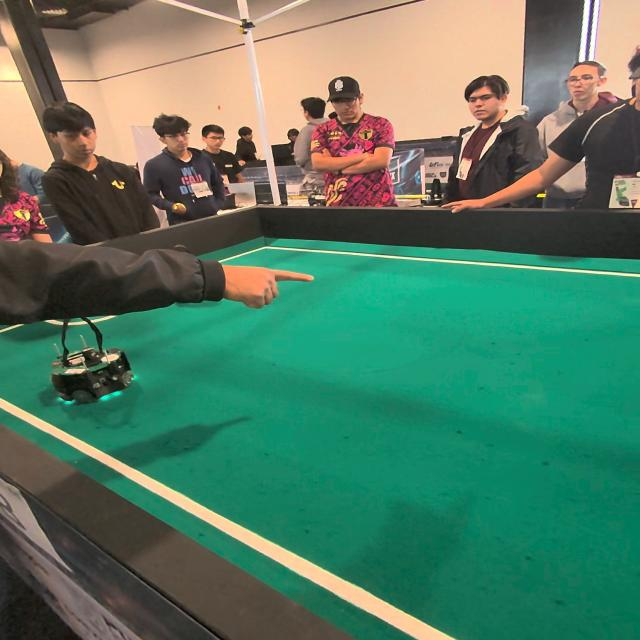Robot: (46, 318, 140, 411)
